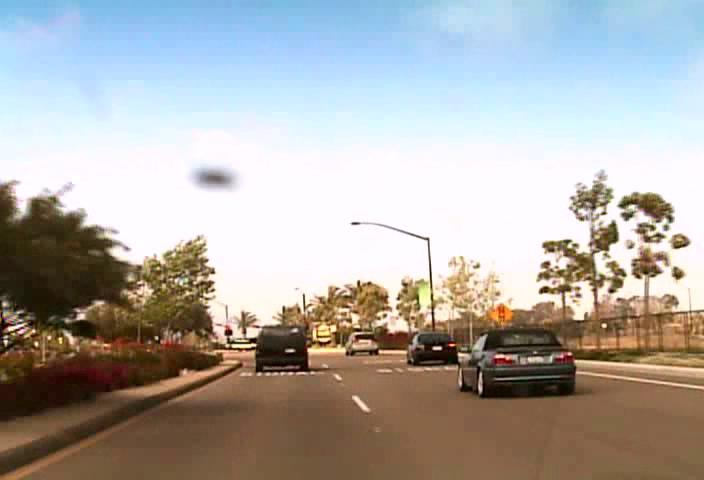signalAhead: (488, 302, 514, 327)
